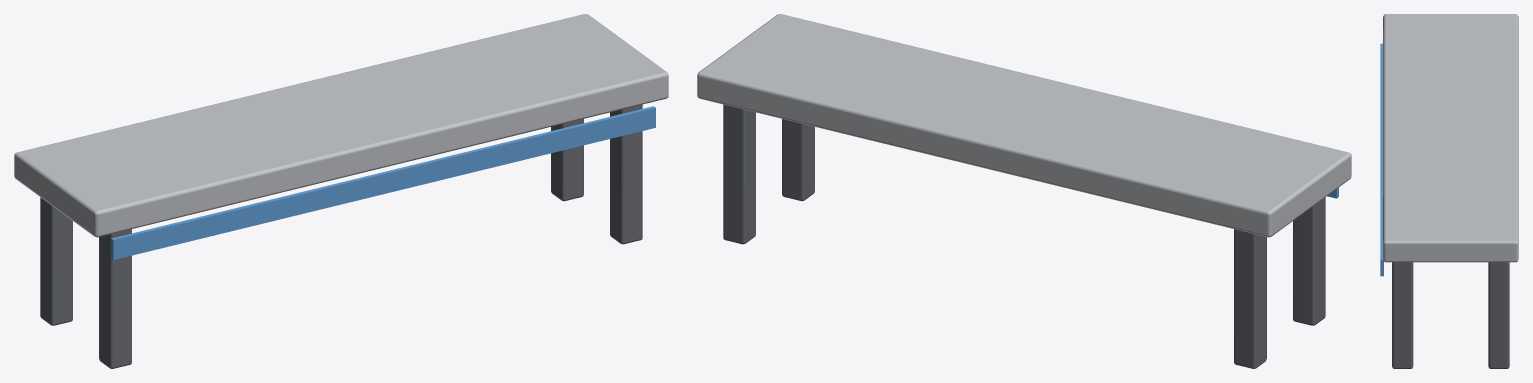
File: solar-system-and-astronauts-classroom-bench-ad9c5e6c__39269.glb
3 renders of one model, left to right at view 1: azimuth 30°, elevation 25°; view 2: azimuth 150°, elevation 25°; view 3: azimuth 270°, elevation 25°, orthographic. The views are drawn at different scales.
Visible parts, largest first — view 1: classroom-bench; view 2: classroom-bench; view 3: classroom-bench.
Boxes of the visible parts, x1,y1,x2,y2 form: classroom-bench: [14, 14, 668, 368]; classroom-bench: [697, 14, 1351, 368]; classroom-bench: [1380, 14, 1518, 368].
Bounding box in the file's own units: 1.8 × 0.5 × 0.4591.
